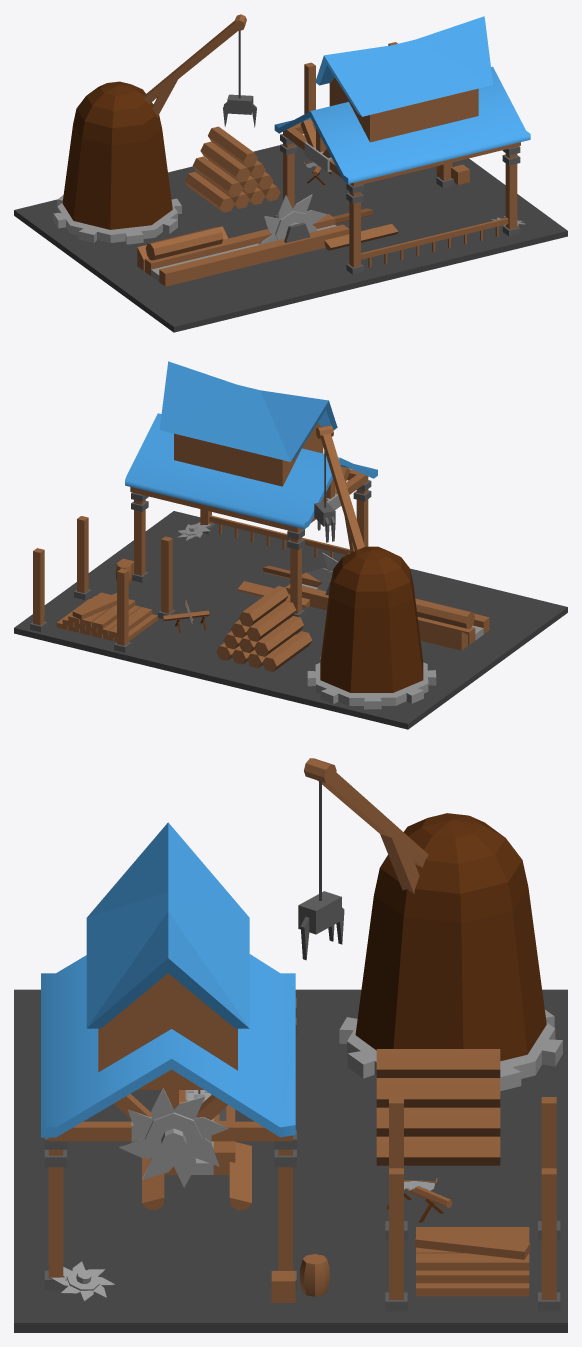
The model's file is LumberMill01.fbx.
The picture shows the model from 3 angles, top to bottom: view 1: azimuth 30°, elevation 25°; view 2: azimuth 150°, elevation 25°; view 3: azimuth 270°, elevation 25°; orthographic projection. The views are drawn at different scales.
Visible parts, largest first — view 1: polySurface123; view 2: polySurface123; view 3: polySurface123.
Boxes of the visible parts, x1,y1,x2,y2 form: polySurface123: (14,14,567,332); polySurface123: (14,361,567,729); polySurface123: (14,758,567,1332).
Size of the model in its own units: 760 by 418 by 534.
1 material, 1 textured.
